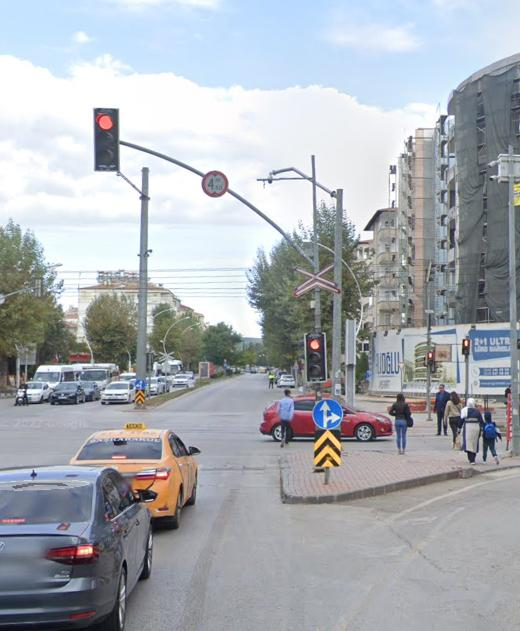redlight: (96, 109, 117, 171), (306, 334, 326, 380)
